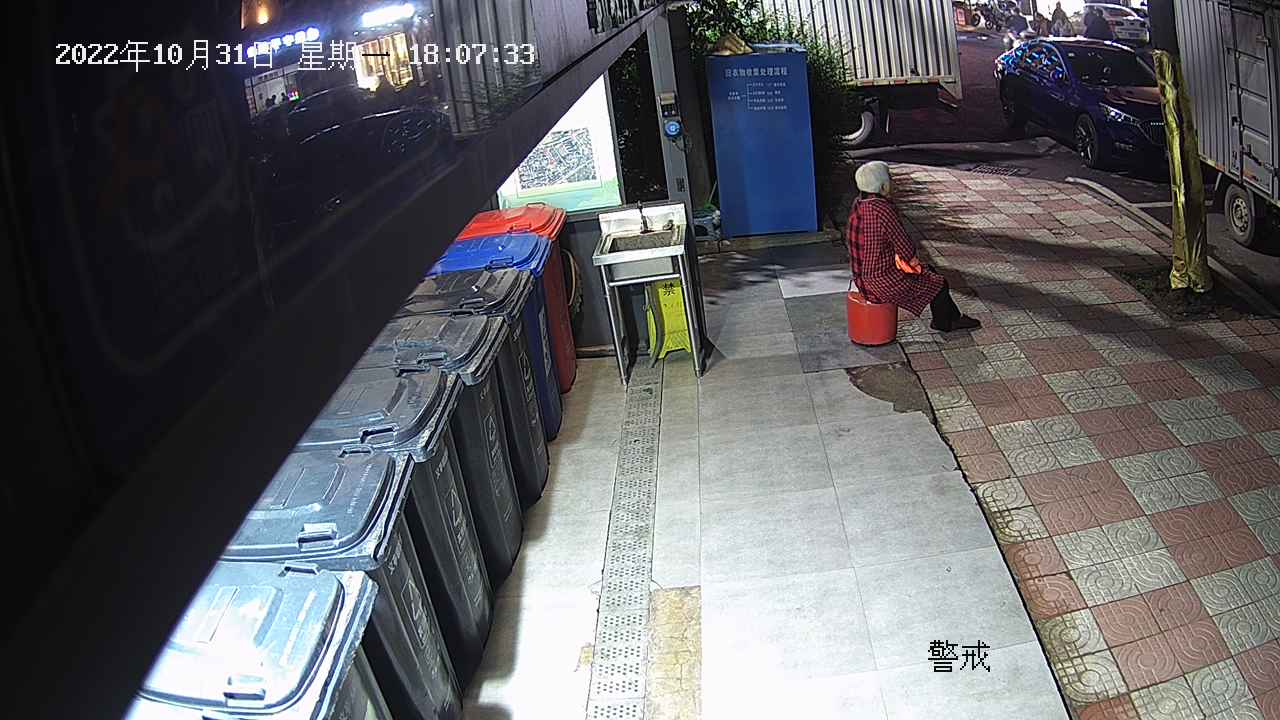person: (843, 157, 982, 334)
